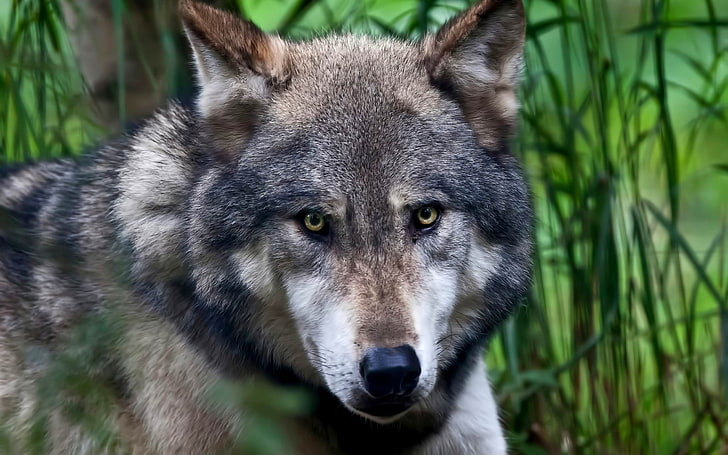Lobo: (16, 6, 572, 446)
